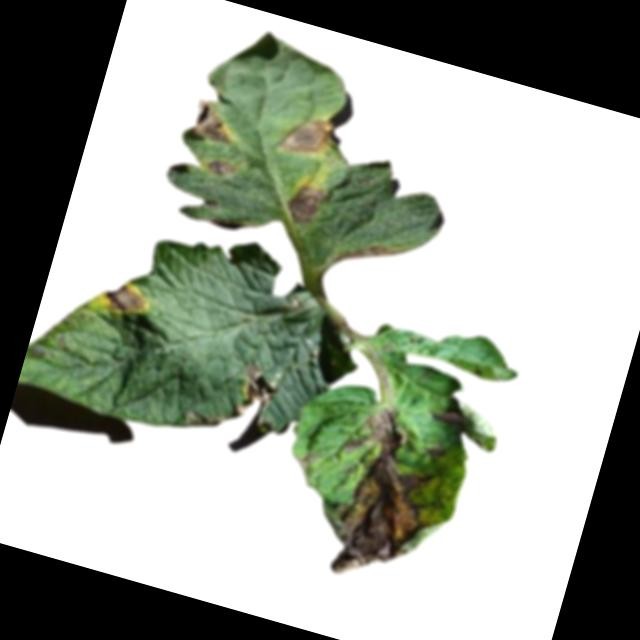Early_blight: (316, 402, 460, 599), (275, 107, 342, 166), (178, 94, 242, 152), (334, 231, 401, 279), (231, 361, 280, 425), (94, 275, 152, 321), (283, 179, 328, 227), (429, 403, 471, 431), (202, 154, 239, 183), (290, 445, 318, 471)
